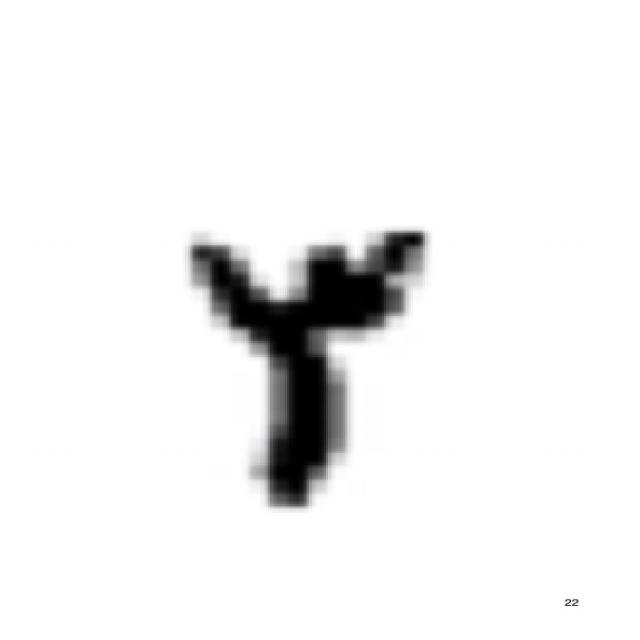3 -three-: (164, 213, 445, 521)
